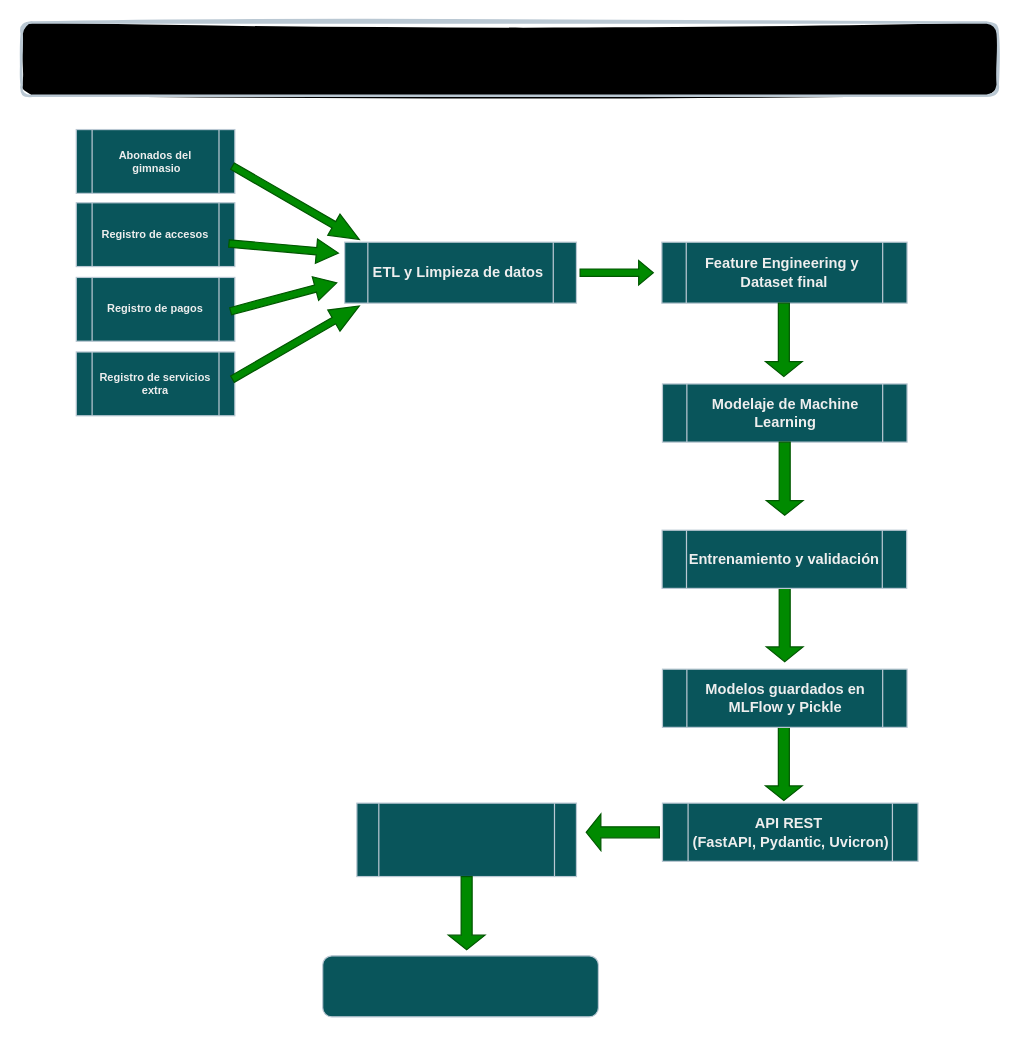
Some shapes in this 1020 by 1038 pixel diagram are drawn without their labels. Each missing label, with the box of its shape:
ARQUITECURA TÉCNICA DEL PROYECTO: (20, 21, 998, 96)
Dashboard interactivo (Streamlit con conexión a API): (356, 802, 576, 877)
Usuario final (Jefe del gimnasio, Dirección): (321, 955, 598, 1017)
